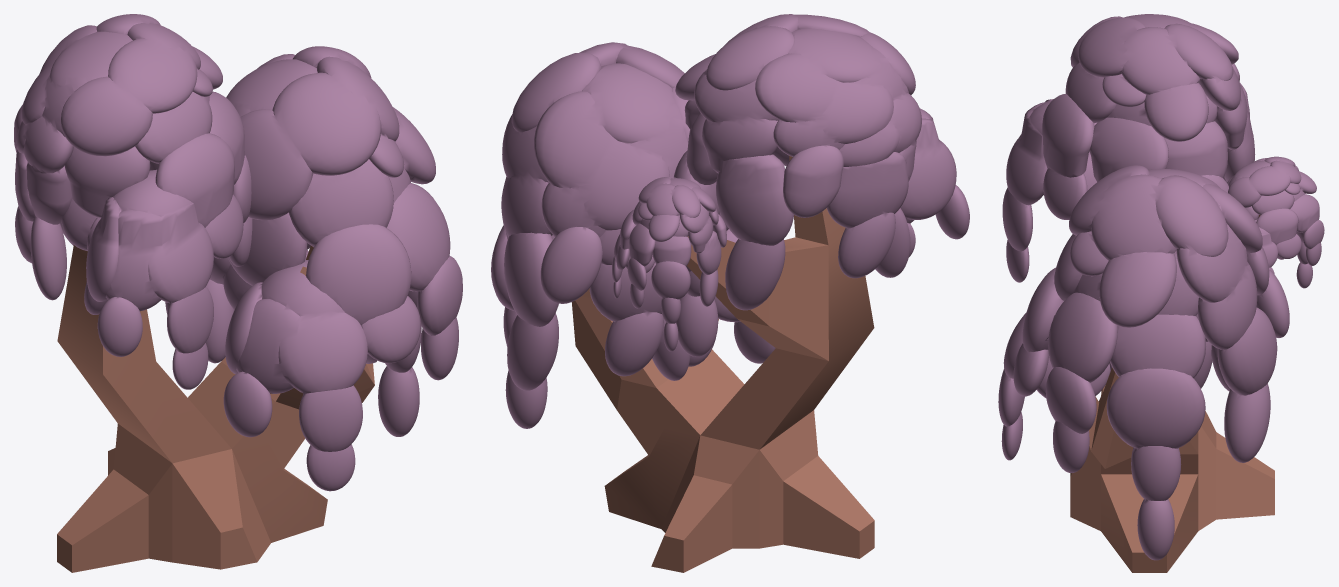
Rendered from tree2.fbx.
The picture shows the model from 3 angles, left to right: view 1: azimuth 30°, elevation 25°; view 2: azimuth 150°, elevation 25°; view 3: azimuth 270°, elevation 25°; orthographic projection. The views are drawn at different scales.
Visible parts, largest first — view 1: pSphere51 (×2), pCube1; view 2: pSphere51 (×3), pCube1; view 3: pSphere51 (×3), pCube1.
Part boxes in pixels (x1=…): pSphere51 (×2): x1=14, y1=14, x2=462, y2=491; pCube1: x1=57, y1=245, x2=374, y2=572; pSphere51 (×3): x1=491, y1=14, x2=969, y2=428; pCube1: x1=571, y1=155, x2=874, y2=572; pSphere51 (×3): x1=998, y1=14, x2=1324, y2=560; pCube1: x1=1070, y1=215, x2=1274, y2=572.
Bounding box in the file's own units: 10.48 × 13.14 × 8.25.
